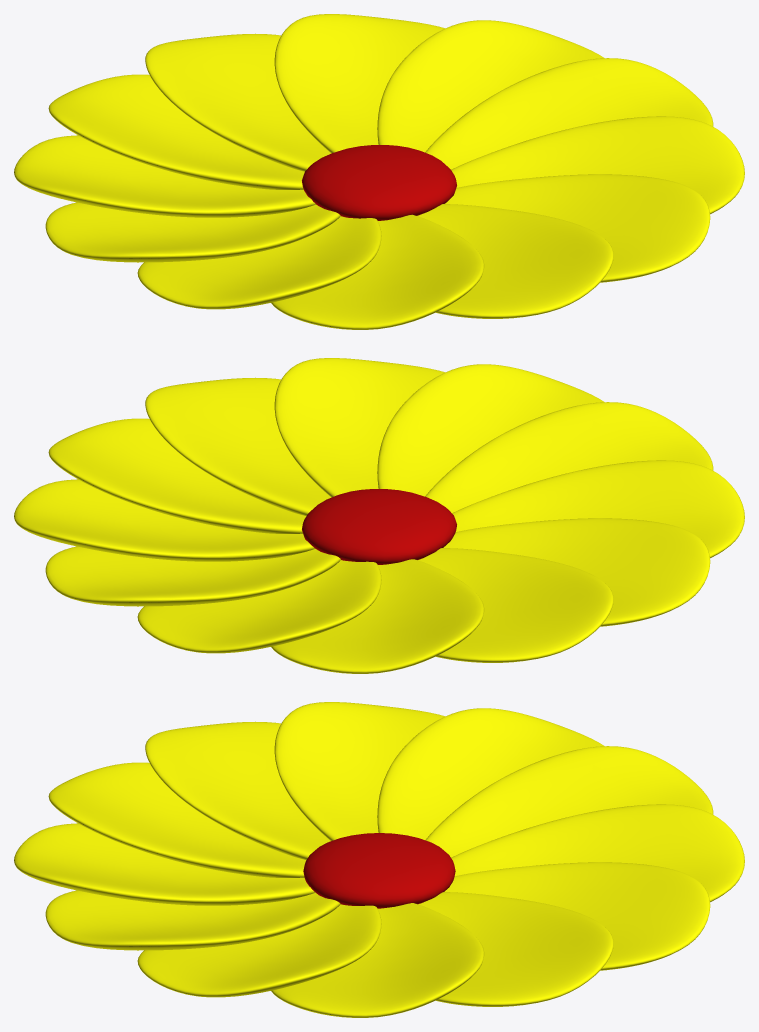
File: Flower.glb
The picture shows the model from 3 angles, top to bottom: view 1: azimuth 30°, elevation 25°; view 2: azimuth 150°, elevation 25°; view 3: azimuth 270°, elevation 25°; orthographic projection.
Visible parts, largest first — view 1: Cube (×13); view 2: Cube (×13); view 3: Cube (×13).
Boxes of the visible parts, bbox=[...] form: Cube (×13): bbox=[14, 14, 744, 329]; Cube (×13): bbox=[14, 358, 744, 673]; Cube (×13): bbox=[14, 702, 744, 1017].
Size of the model in its own units: 752 by 57.98 by 752.
